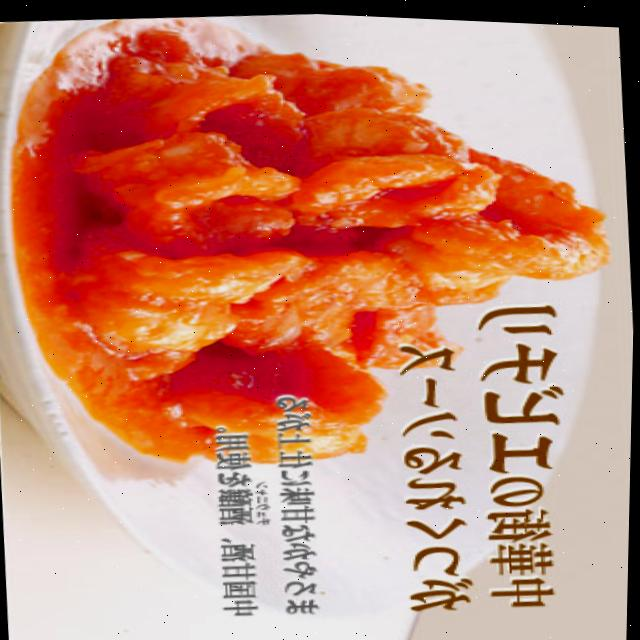熟制海鲜: (0, 0, 637, 341)
